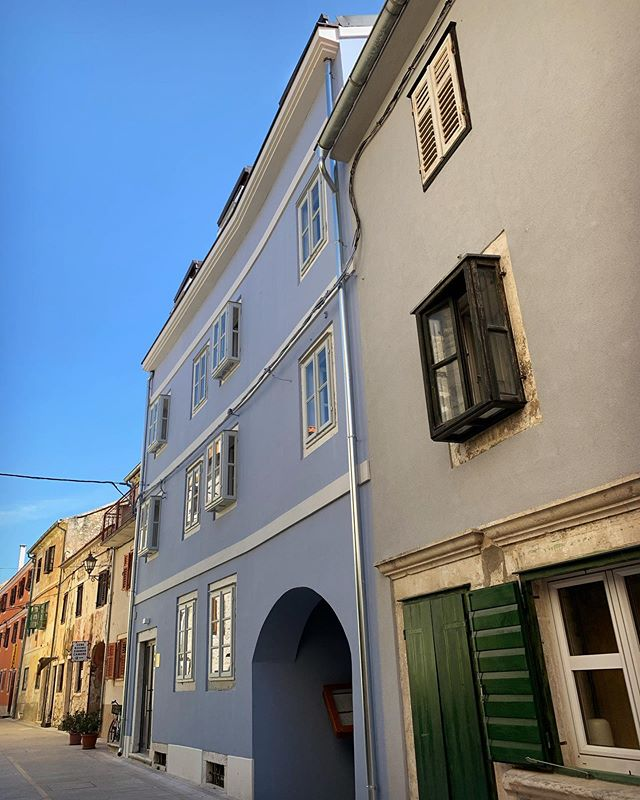building: (372, 1, 640, 793), (107, 27, 367, 769), (9, 520, 129, 730)
sky: (3, 1, 255, 492)
